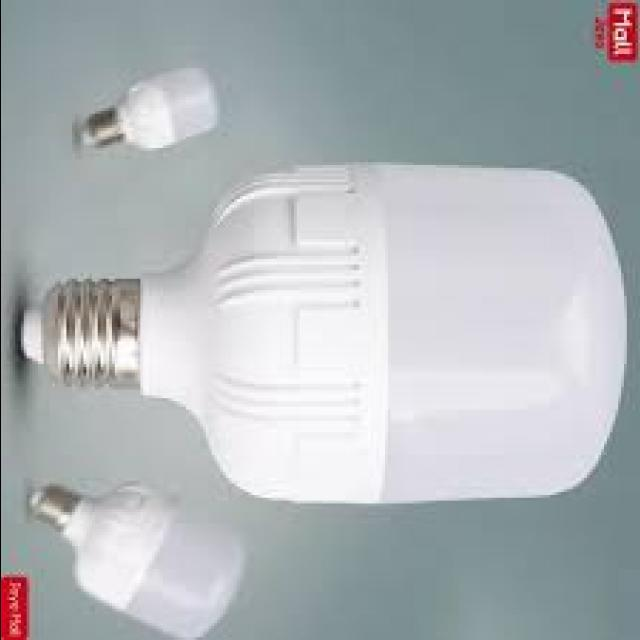light_bulb: (3, 162, 624, 522), (25, 472, 267, 640), (63, 56, 241, 172)
